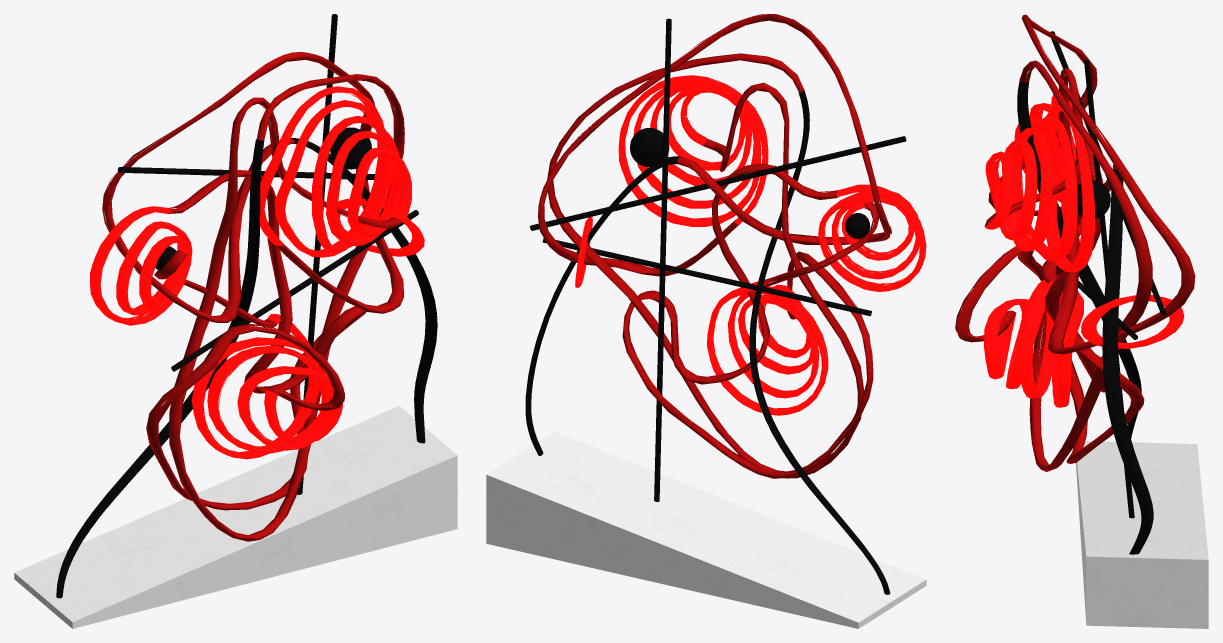
File: SCREAMER-RED-v50.glb
3 renders of one model, left to right at view 1: azimuth 30°, elevation 25°; view 2: azimuth 150°, elevation 25°; view 3: azimuth 270°, elevation 25°, orthographic. The views are drawn at different scales.
Parts seen in each view (by area): view 1: Layer 05, GOVDE, HOPARLER.001, AYAK.001; view 2: Layer 05, GOVDE, HOPARLER.001, AYAK.001; view 3: Layer 05, HOPARLER.001, GOVDE, AYAK.001.
Part boxes in pixels (<box>): Layer 05: <box>14,405,457,628</box>; GOVDE: <box>102,52,404,541</box>; HOPARLER.001: <box>90,86,424,459</box>; AYAK.001: <box>56,14,437,598</box>; Layer 05: <box>486,431,926,628</box>; GOVDE: <box>538,14,891,478</box>; HOPARLER.001: <box>575,75,926,415</box>; AYAK.001: <box>525,18,906,594</box>; Layer 05: <box>1076,441,1208,628</box>; HOPARLER.001: <box>984,94,1184,407</box>; GOVDE: <box>955,14,1195,471</box>; AYAK.001: <box>1017,31,1166,554</box>.
Bounding box in the file's own units: 0.776 × 1.02 × 0.457.
Materials: 4 (1 with a texture image).
